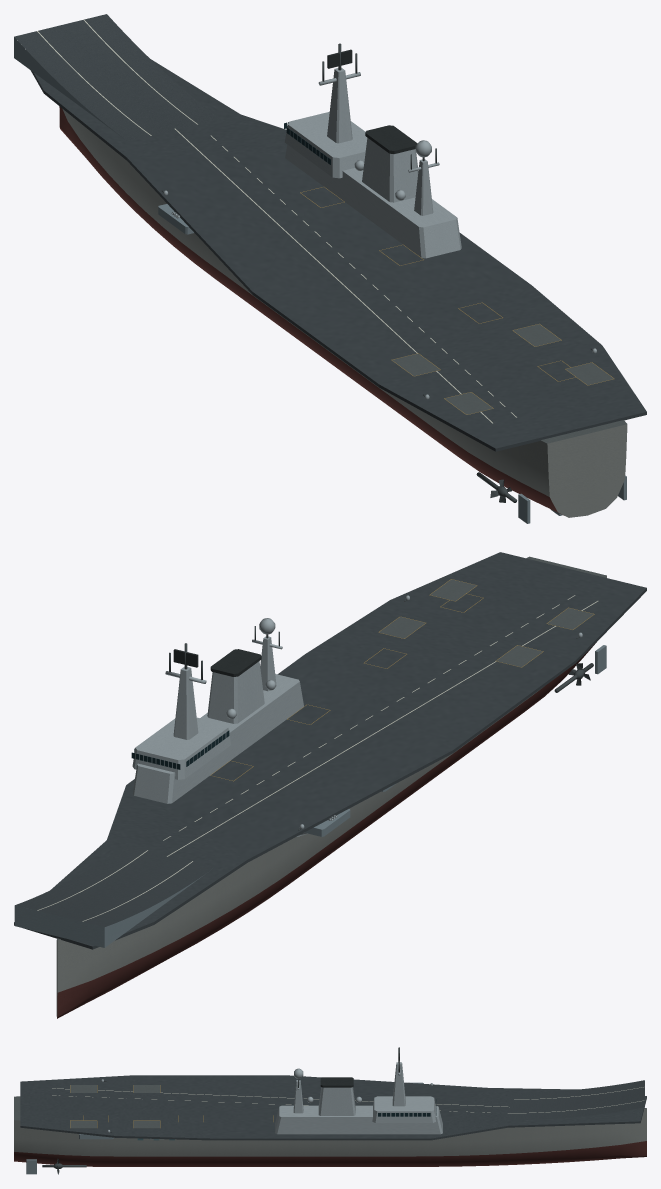
The model's file is wings_liaoning_type001.glb.
3 views of the same model, one above another, from view 1: azimuth 30°, elevation 25°; view 2: azimuth 150°, elevation 25°; view 3: azimuth 270°, elevation 25° (orthographic). The views are drawn at different scales.
Parts seen in each view (by area): view 1: static_hull_deck_superstructure; view 2: static_hull_deck_superstructure; view 3: static_hull_deck_superstructure.
Boxes of the visible parts, bbox=[...] form: static_hull_deck_superstructure: bbox=[14, 14, 646, 523]; static_hull_deck_superstructure: bbox=[14, 552, 646, 1018]; static_hull_deck_superstructure: bbox=[14, 1047, 646, 1174].
Size of the model in its own units: 72 by 71.26 by 304.
1 material, 1 textured.
